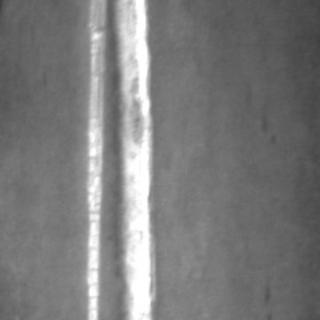inclusion: (256, 271, 274, 307)
scratches: (109, 0, 153, 316), (84, 0, 108, 318)
